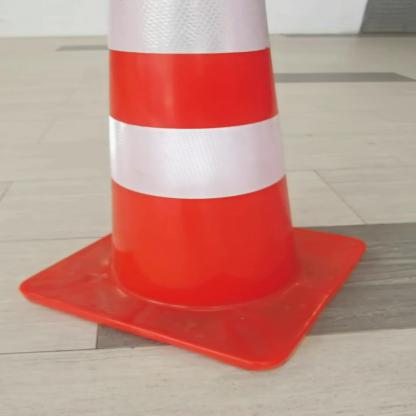cone: (15, 0, 376, 372)
